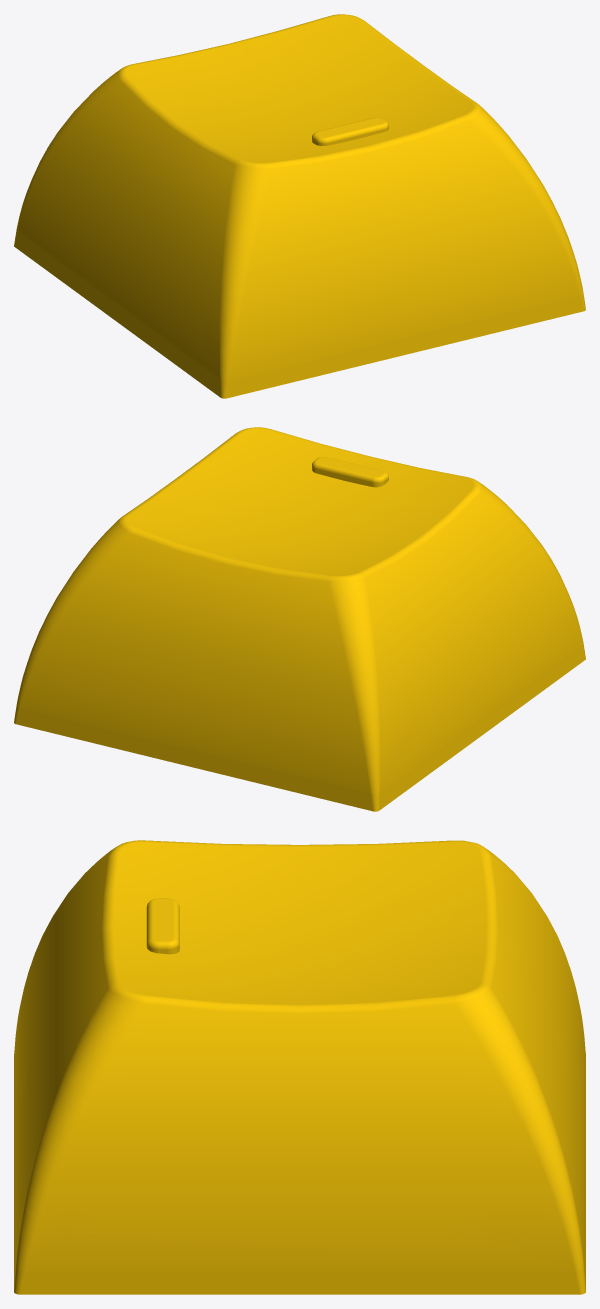
The model's file is 1u_nub_compressed.glb.
The picture shows the model from 3 angles, top to bottom: view 1: azimuth 30°, elevation 25°; view 2: azimuth 150°, elevation 25°; view 3: azimuth 270°, elevation 25°; orthographic projection. The views are drawn at different scales.
Visible parts, largest first — view 1: Body75; view 2: Body75; view 3: Body75.
Boxes of the visible parts, box(x1,y1,x2,y2) form: Body75: box(14, 14, 585, 398); Body75: box(14, 427, 585, 811); Body75: box(14, 840, 585, 1294).
Size of the model in its own units: 18.31 by 9.05 by 18.31.
